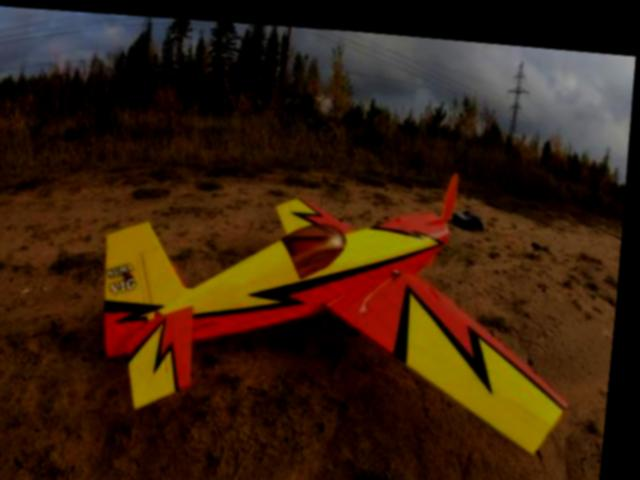uav: (92, 169, 593, 454)
